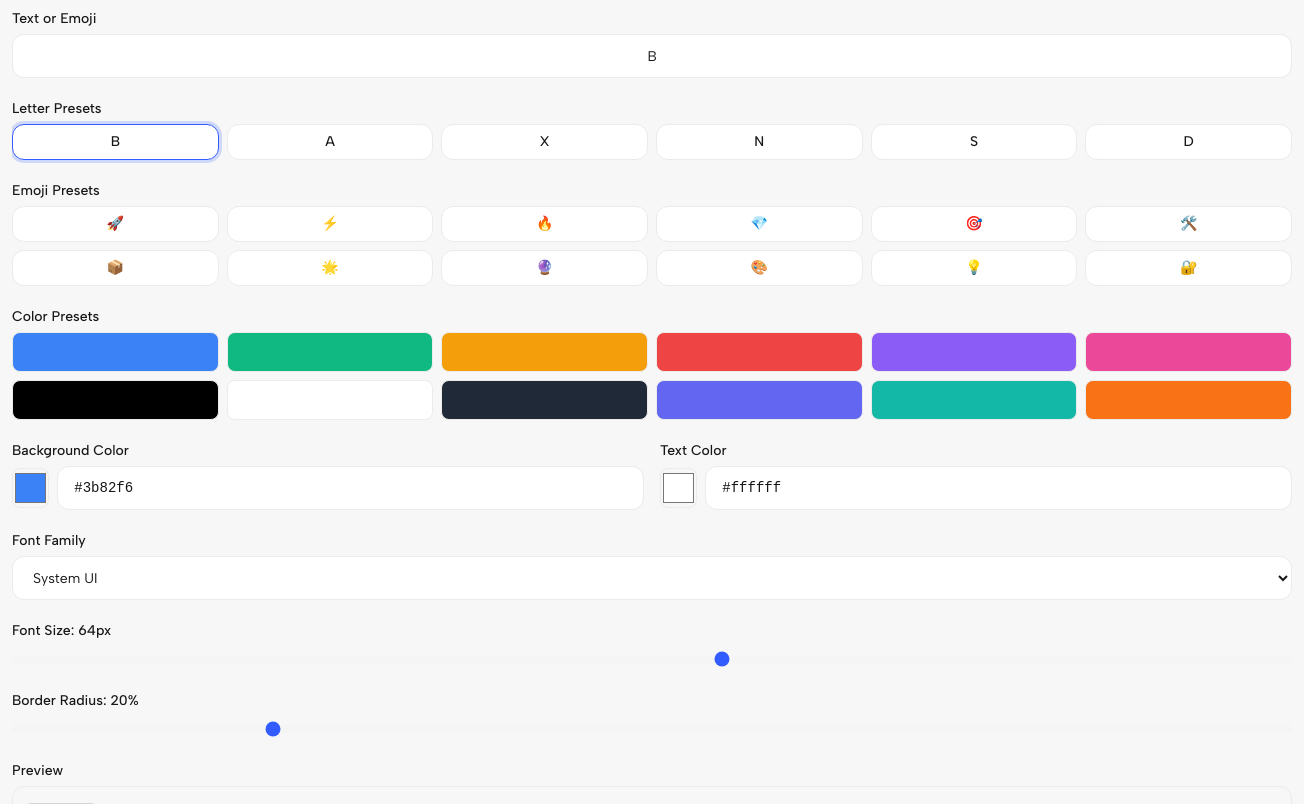
Test: FaviconGeneratorTool › changes text when emoji preset is clicked
Click the button "🚀" at x=115, y=224, box [12, 206, 219, 242]
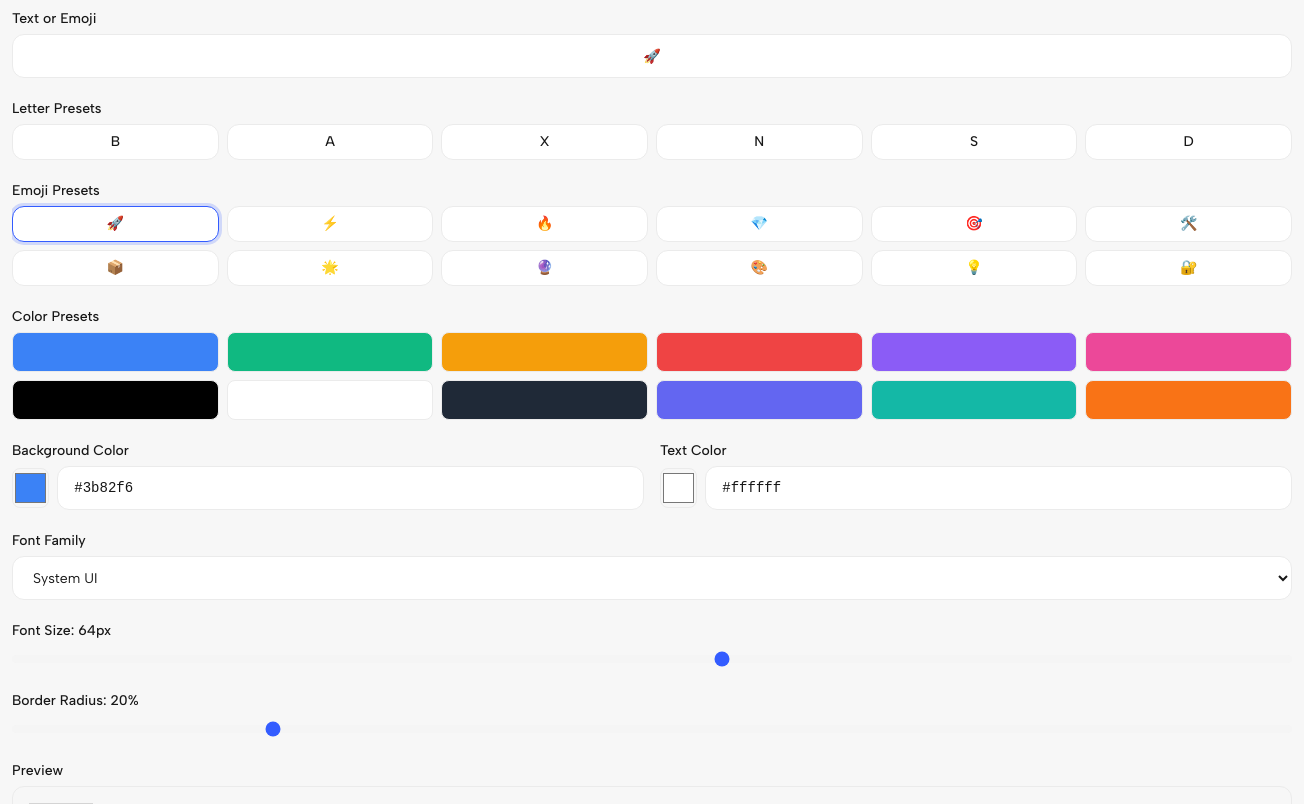
Now the field with placeholder "B or 🚀" below "Text or Emoji" holds "🚀", box [12, 34, 1292, 78]
